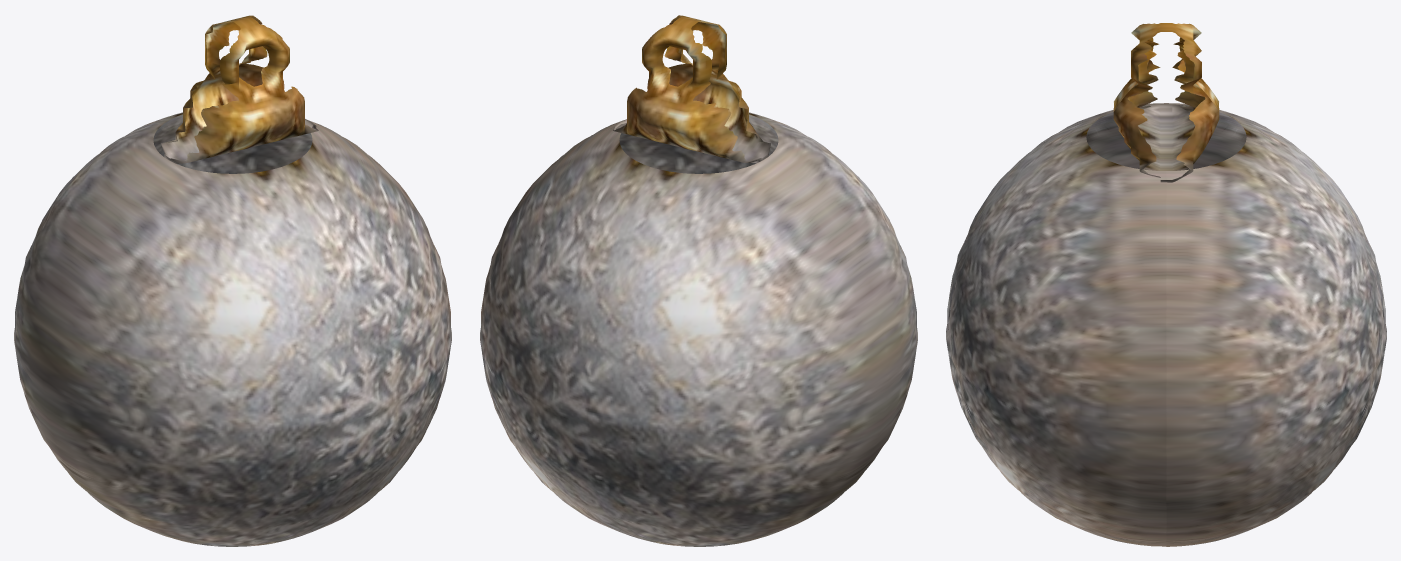
File: Item_silver.glb
3 renders of one model, left to right at view 1: azimuth 30°, elevation 25°; view 2: azimuth 150°, elevation 25°; view 3: azimuth 270°, elevation 25°, orthographic.
Visible parts, largest first — view 1: Lacquered glass.004, Item_silver carving; view 2: Lacquered glass.004, Item_silver carving; view 3: Lacquered glass.004, Item_silver carving.
Boxes of the visible parts, x1,y1,x2,y2 form: Lacquered glass.004: (14, 112, 451, 546); Item_silver carving: (161, 15, 318, 163); Lacquered glass.004: (480, 112, 917, 546); Item_silver carving: (613, 15, 770, 163); Lacquered glass.004: (946, 103, 1386, 546); Item_silver carving: (1113, 23, 1219, 182).
Size of the model in its own units: 0.2258 by 0.2852 by 0.2258.
1 material, 1 textured.
